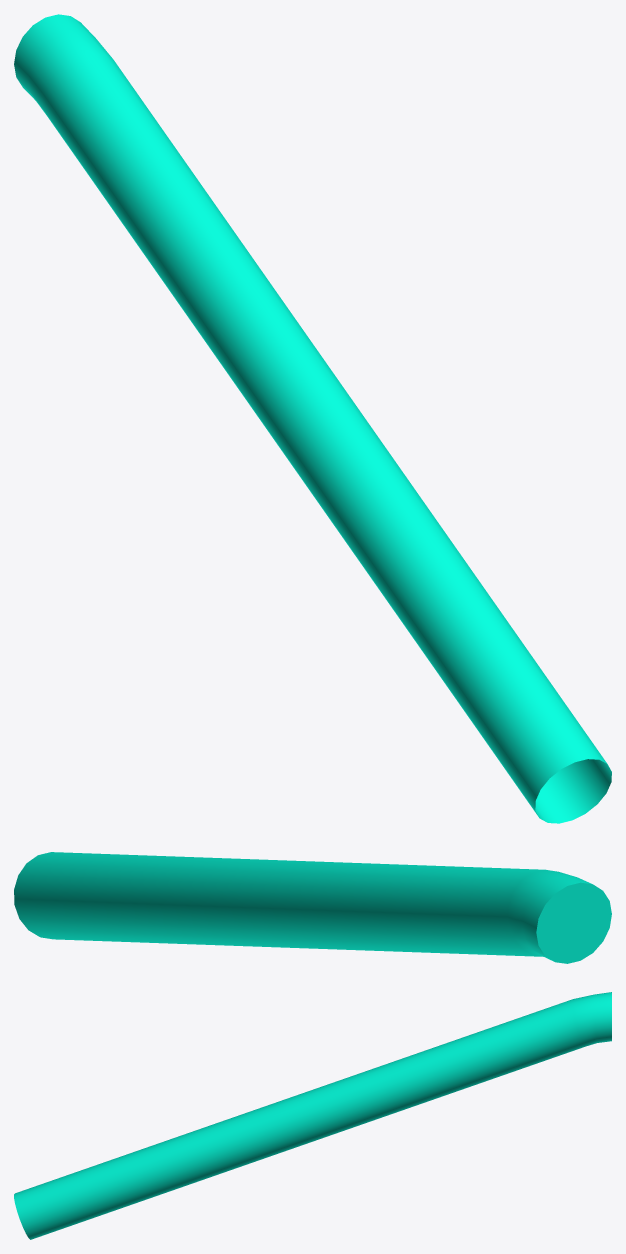
The model's file is Valla6.FBX.
3 views of the same model, one above another, from view 1: azimuth 30°, elevation 25°; view 2: azimuth 210°, elevation 25°; view 3: azimuth 270°, elevation 25° (orthographic). The views are drawn at different scales.
Visible parts, largest first — view 1: Valla6; view 2: Valla6; view 3: Valla6.
Part boxes in pixels (x1=…): Valla6: x1=14, y1=14, x2=611, y2=823; Valla6: x1=14, y1=852, x2=611, y2=963; Valla6: x1=14, y1=992, x2=611, y2=1239.
Bounding box in the file's own units: 5.14 × 27.67 × 61.81.
